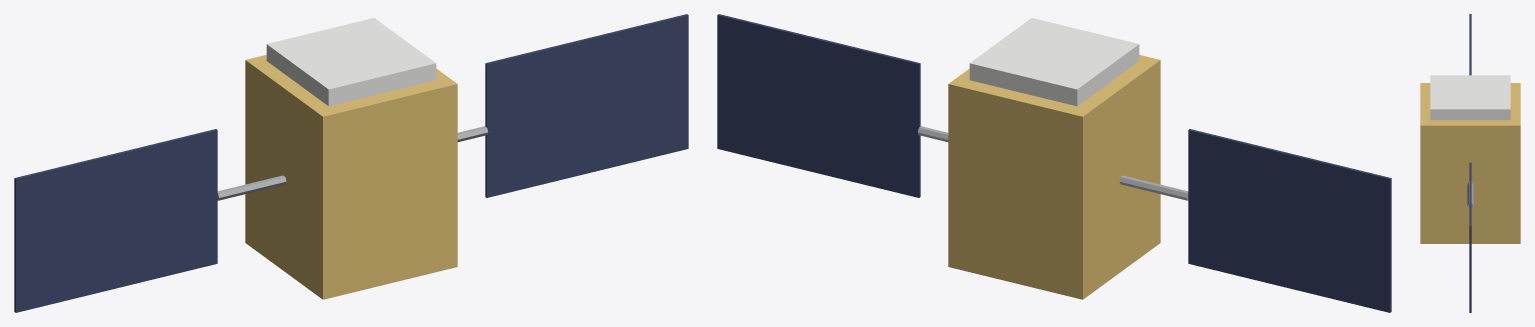
The model's file is oneweb.glb.
The picture shows the model from 3 angles, left to right: view 1: azimuth 30°, elevation 25°; view 2: azimuth 150°, elevation 25°; view 3: azimuth 270°, elevation 25°; orthographic projection. The views are drawn at different scales.
Visible parts, largest first — view 1: oneweb; view 2: oneweb; view 3: oneweb.
Part boxes in pixels (<box>): oneweb: <box>14,14,688,312</box>; oneweb: <box>717,14,1391,312</box>; oneweb: <box>1420,14,1520,312</box>.
Size of the model in its own units: 2 by 0.572 by 0.4.
